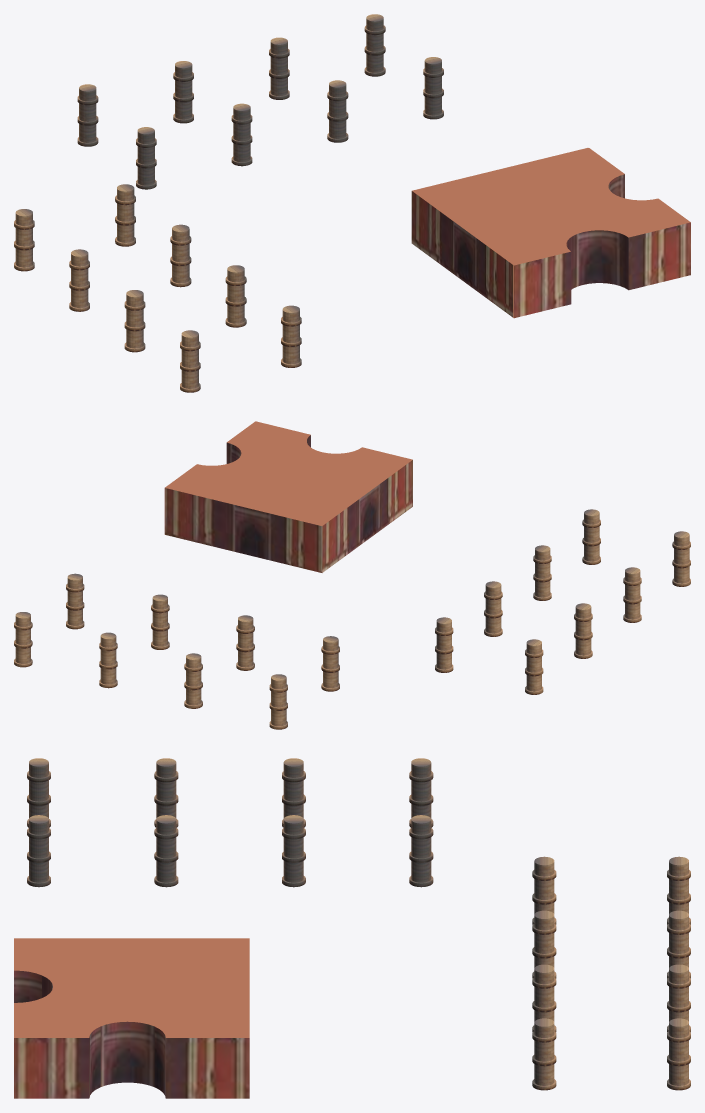
Rendered from Persian_TownCenter_onConstruction.fbx.
3 views of the same model, one above another, from view 1: azimuth 30°, elevation 25°; view 2: azimuth 150°, elevation 25°; view 3: azimuth 270°, elevation 25° (orthographic). The views are drawn at different scales.
Visible parts, largest first — view 1: Cube, Cylinder_001, Cylinder_000; view 2: Cube, Cylinder_000, Cylinder_001; view 3: Cube, Cylinder_000, Cylinder_001.
Part boxes in pixels (box(x1,y1,x2,y2)): Cube: box(411, 148, 690, 318); Cylinder_001: box(77, 14, 443, 189); Cylinder_000: box(14, 184, 301, 392); Cube: box(164, 421, 412, 572); Cylinder_000: box(435, 509, 690, 694); Cylinder_001: box(14, 573, 339, 729); Cube: box(14, 938, 249, 1098); Cylinder_000: box(27, 758, 433, 887); Cylinder_001: box(532, 856, 690, 1090).
Size of the model in its own units: 5.64 by 0.5876 by 5.75.
Materials: 2 (2 with a texture image).
